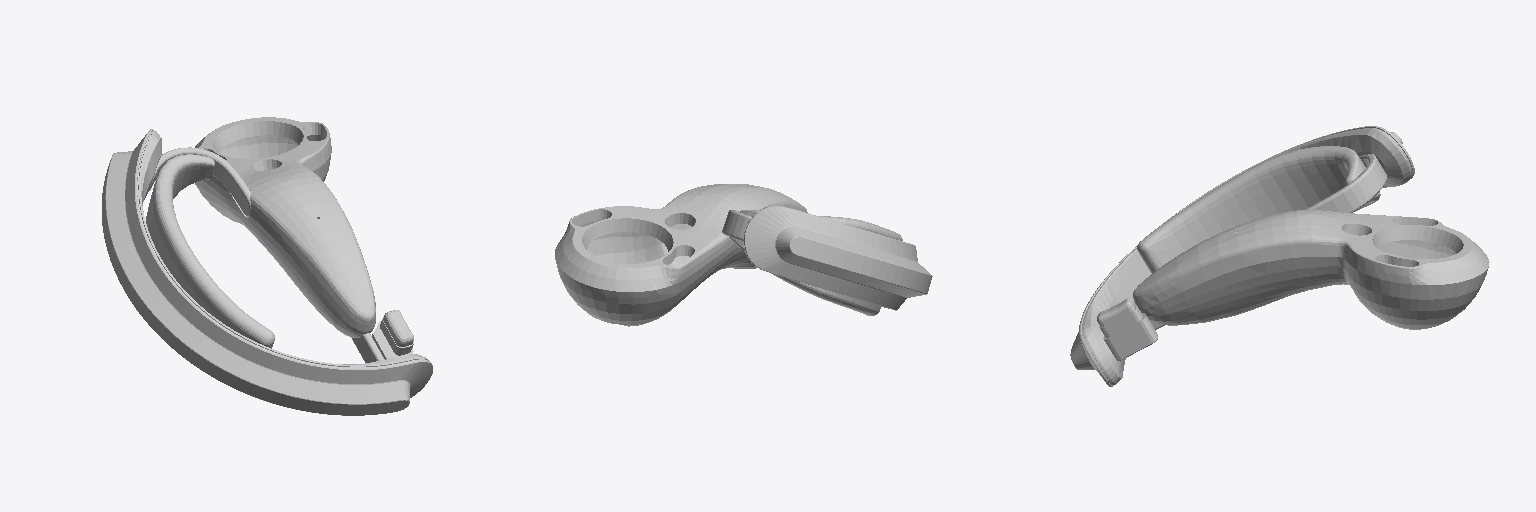
File: valve_controller_knu_ev1_3_left.obj
3 renders of one model, left to right at view 1: azimuth 30°, elevation 25°; view 2: azimuth 150°, elevation 25°; view 3: azimuth 270°, elevation 25°, orthographic.
Visible parts, largest first — view 1: body; view 2: body; view 3: body.
Boxes of the visible parts, box(x1,y1,x2,y2) form: body: box(102, 117, 432, 415); body: box(555, 184, 932, 326); body: box(1070, 126, 1489, 386).
Bounding box in the file's own units: 0.1294 × 0.0922 × 0.1741.